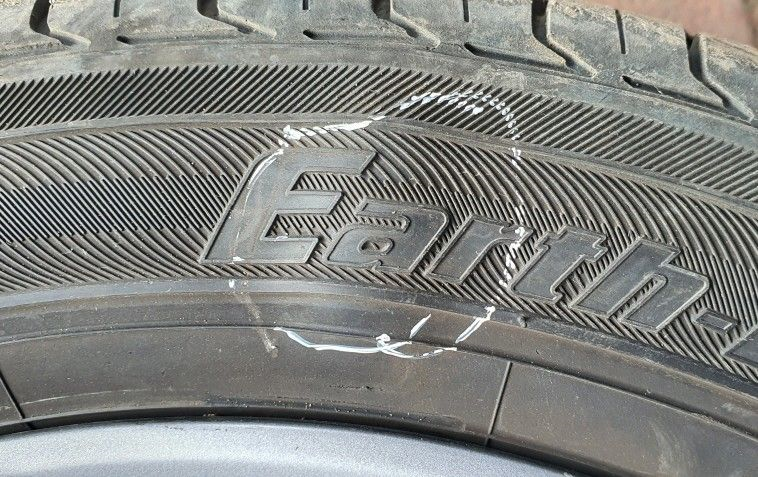CBU: (254, 115, 466, 330)
